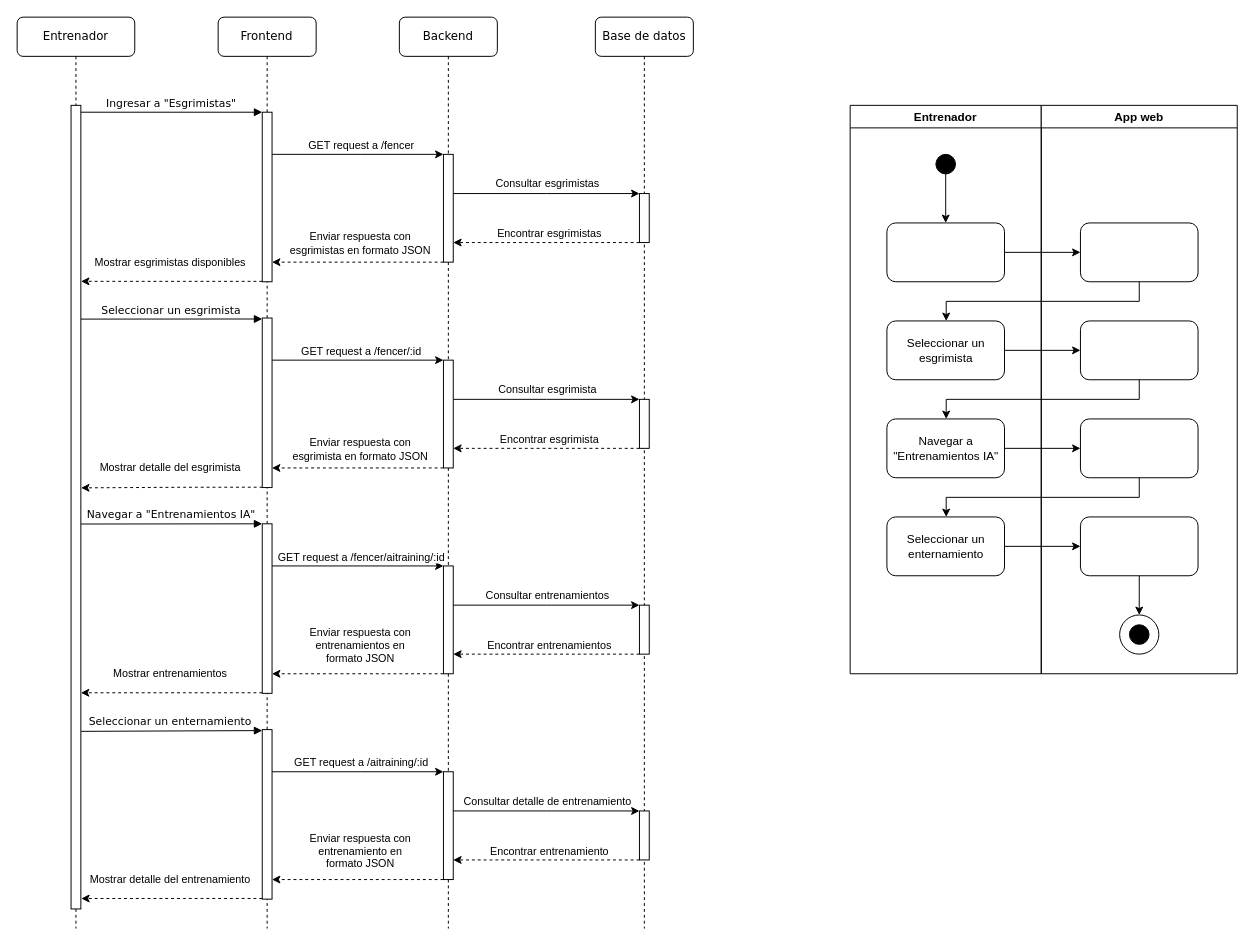
The diagram is 1254 pixels wide and 946 high, and some of its shapes have lost their labels. Here are the shapes that lost their labels. From the top down, the centre of each, then its label:
point (945, 252): Navegar a "Esgrimistas"
point (1138, 252): Mostrar listado de esgrimistas
point (1138, 350): Mostrar detalle de esgrimista
point (1138, 448): Mostrar listado de entrenamientos IA
point (1138, 546): Mostrar detalle de entrenamiento
